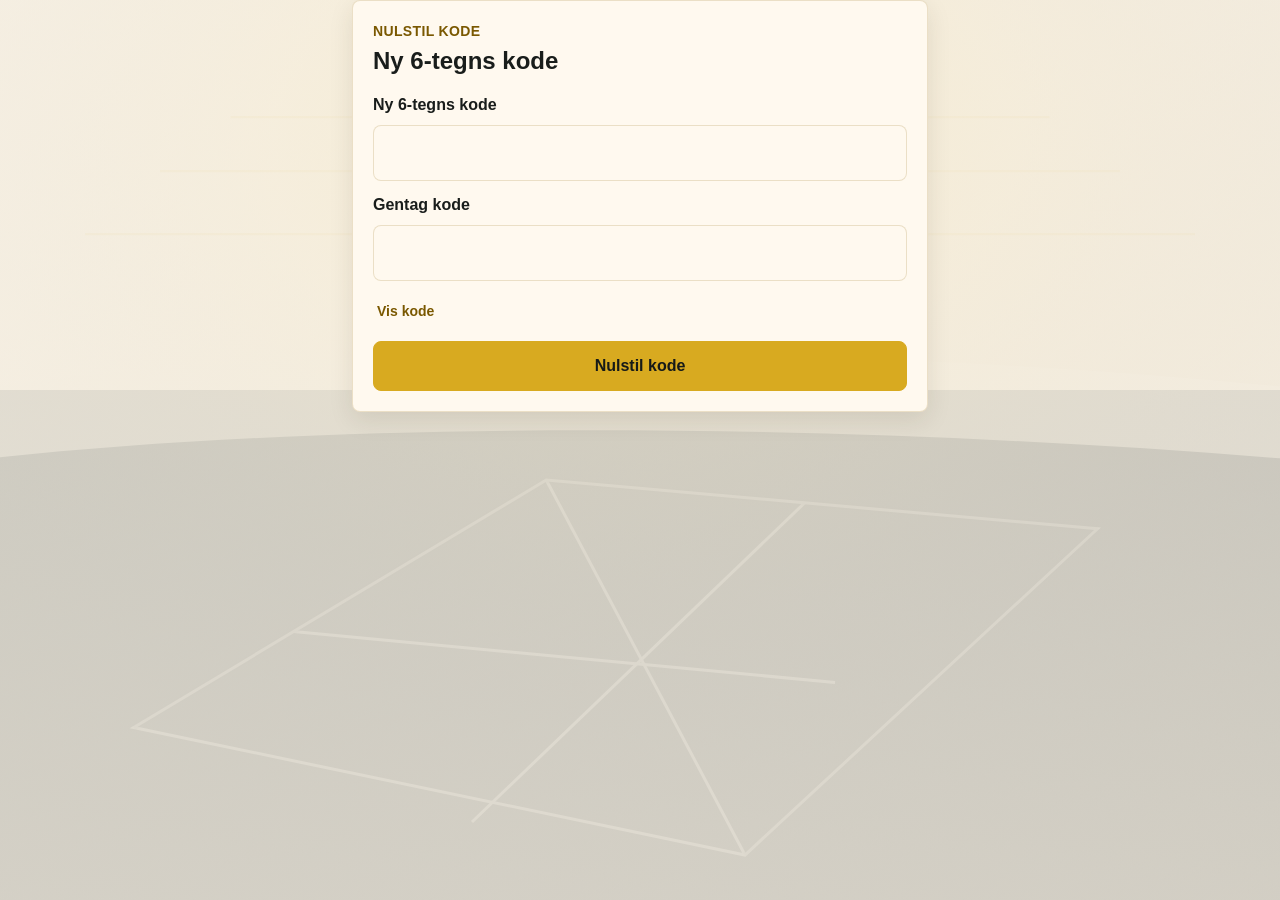
Test: STEP 25M account code recovery UI › does not display raw server errors from recovery completion
Step 1. Type "abc123" into the password field labelled "Ny 6-tegns kode" → point(640, 153), box top-left (373, 125), bottom-right (907, 181)
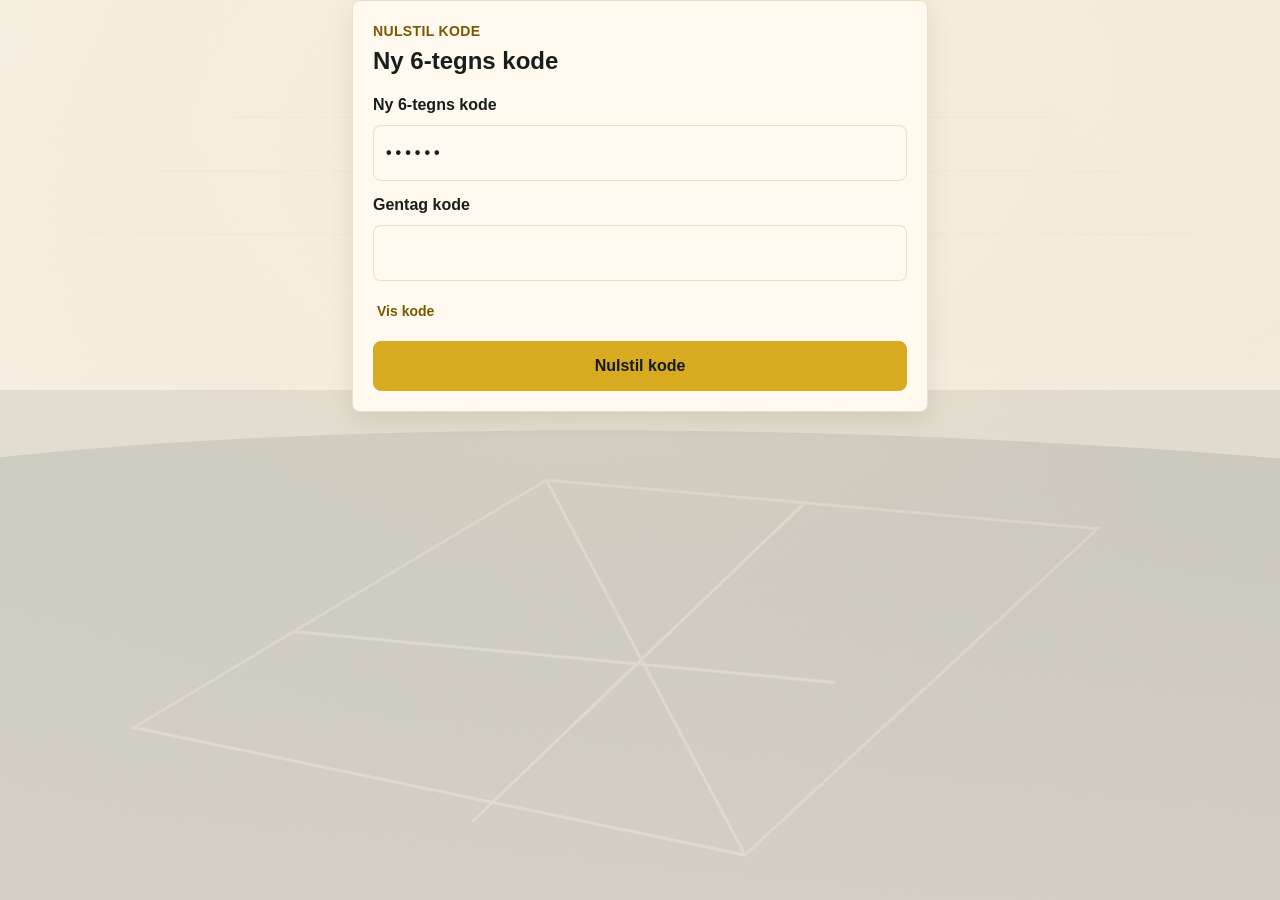
Step 2. Type "abc123" into the password field labelled "Gentag kode" → point(640, 253), box top-left (373, 225), bottom-right (907, 281)
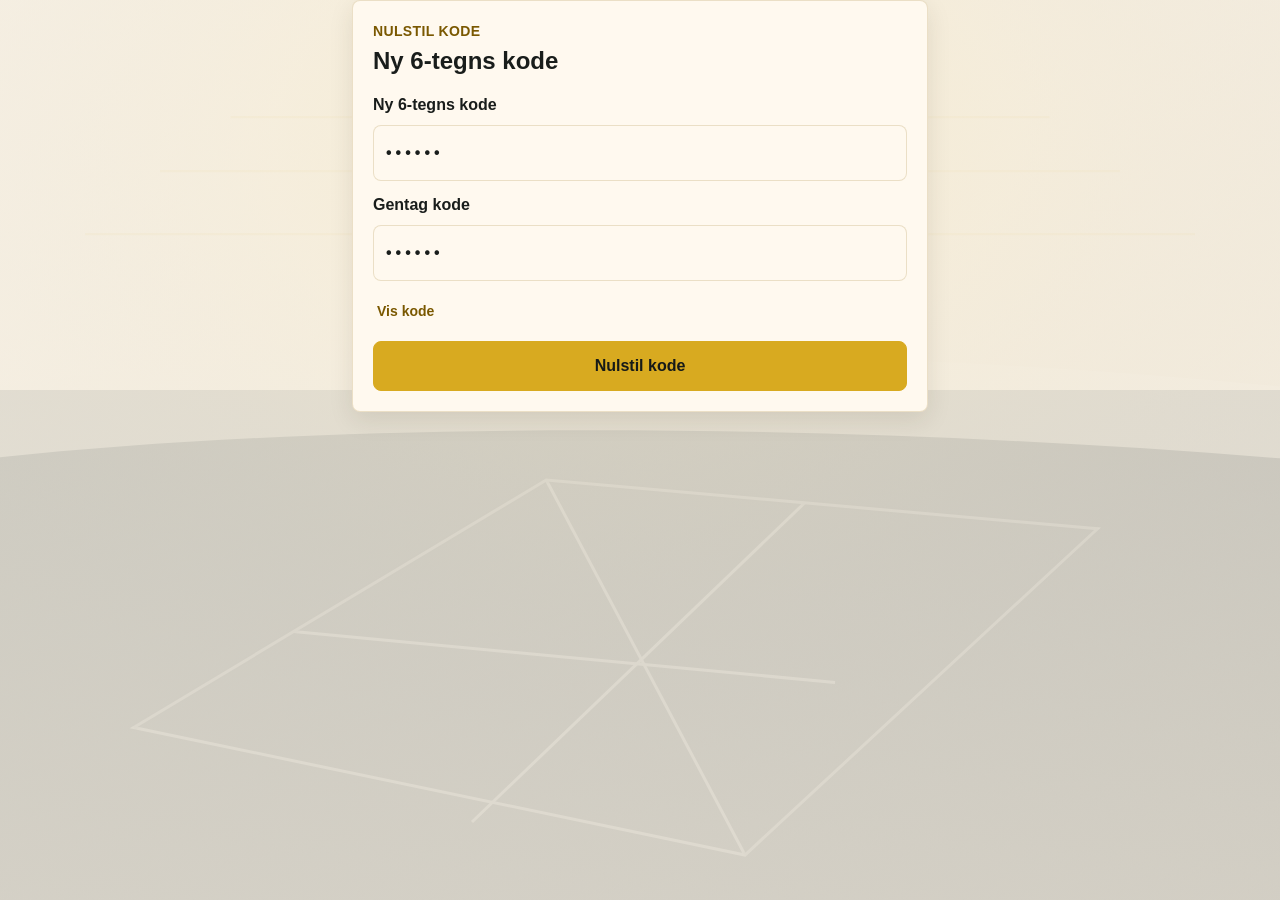
Step 3. Submit the form "Nulstil kode", box top-left (373, 93), bottom-right (907, 391)
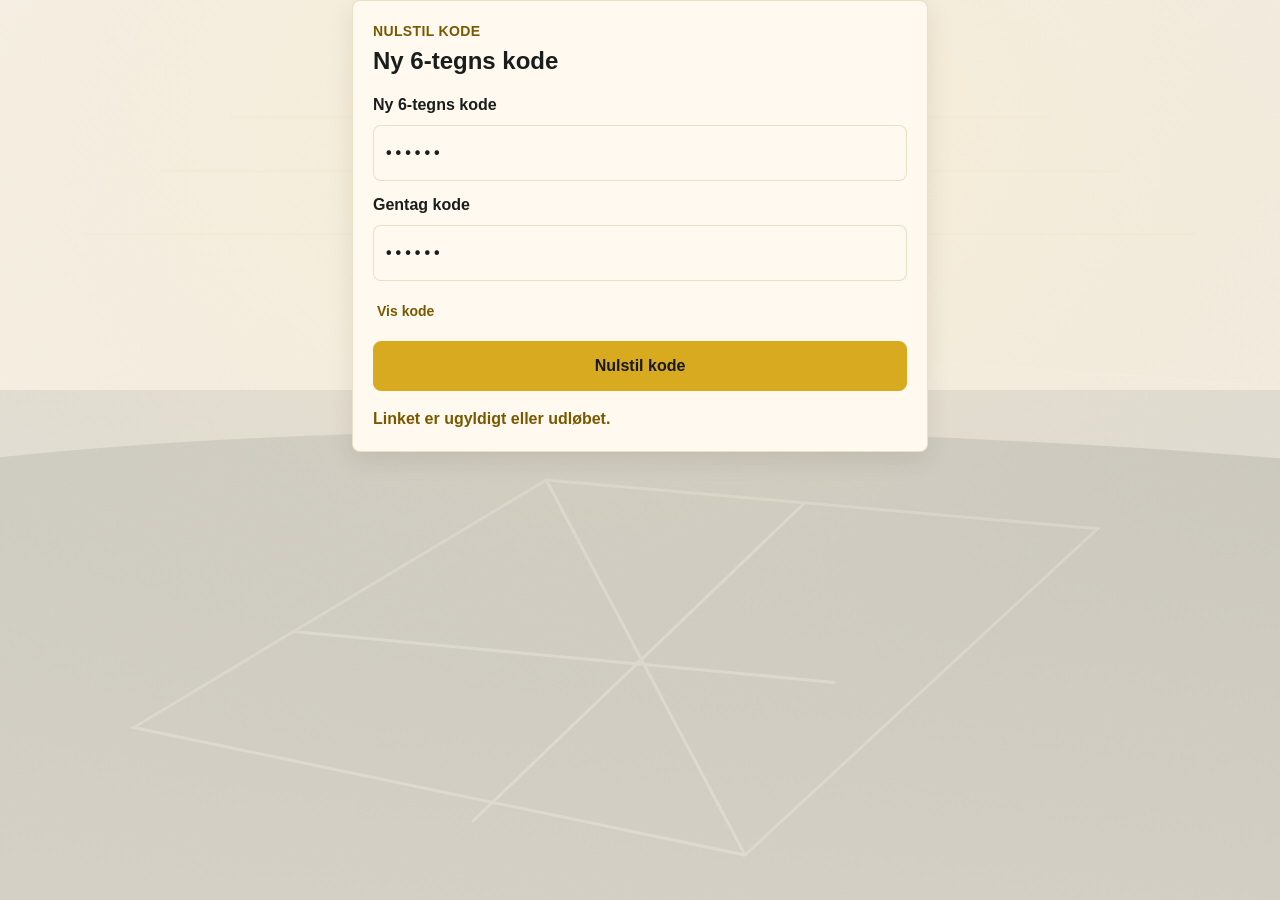
Now the text "Linket er ugyldigt eller udløbet." is shown, box top-left (373, 410), bottom-right (610, 427)
